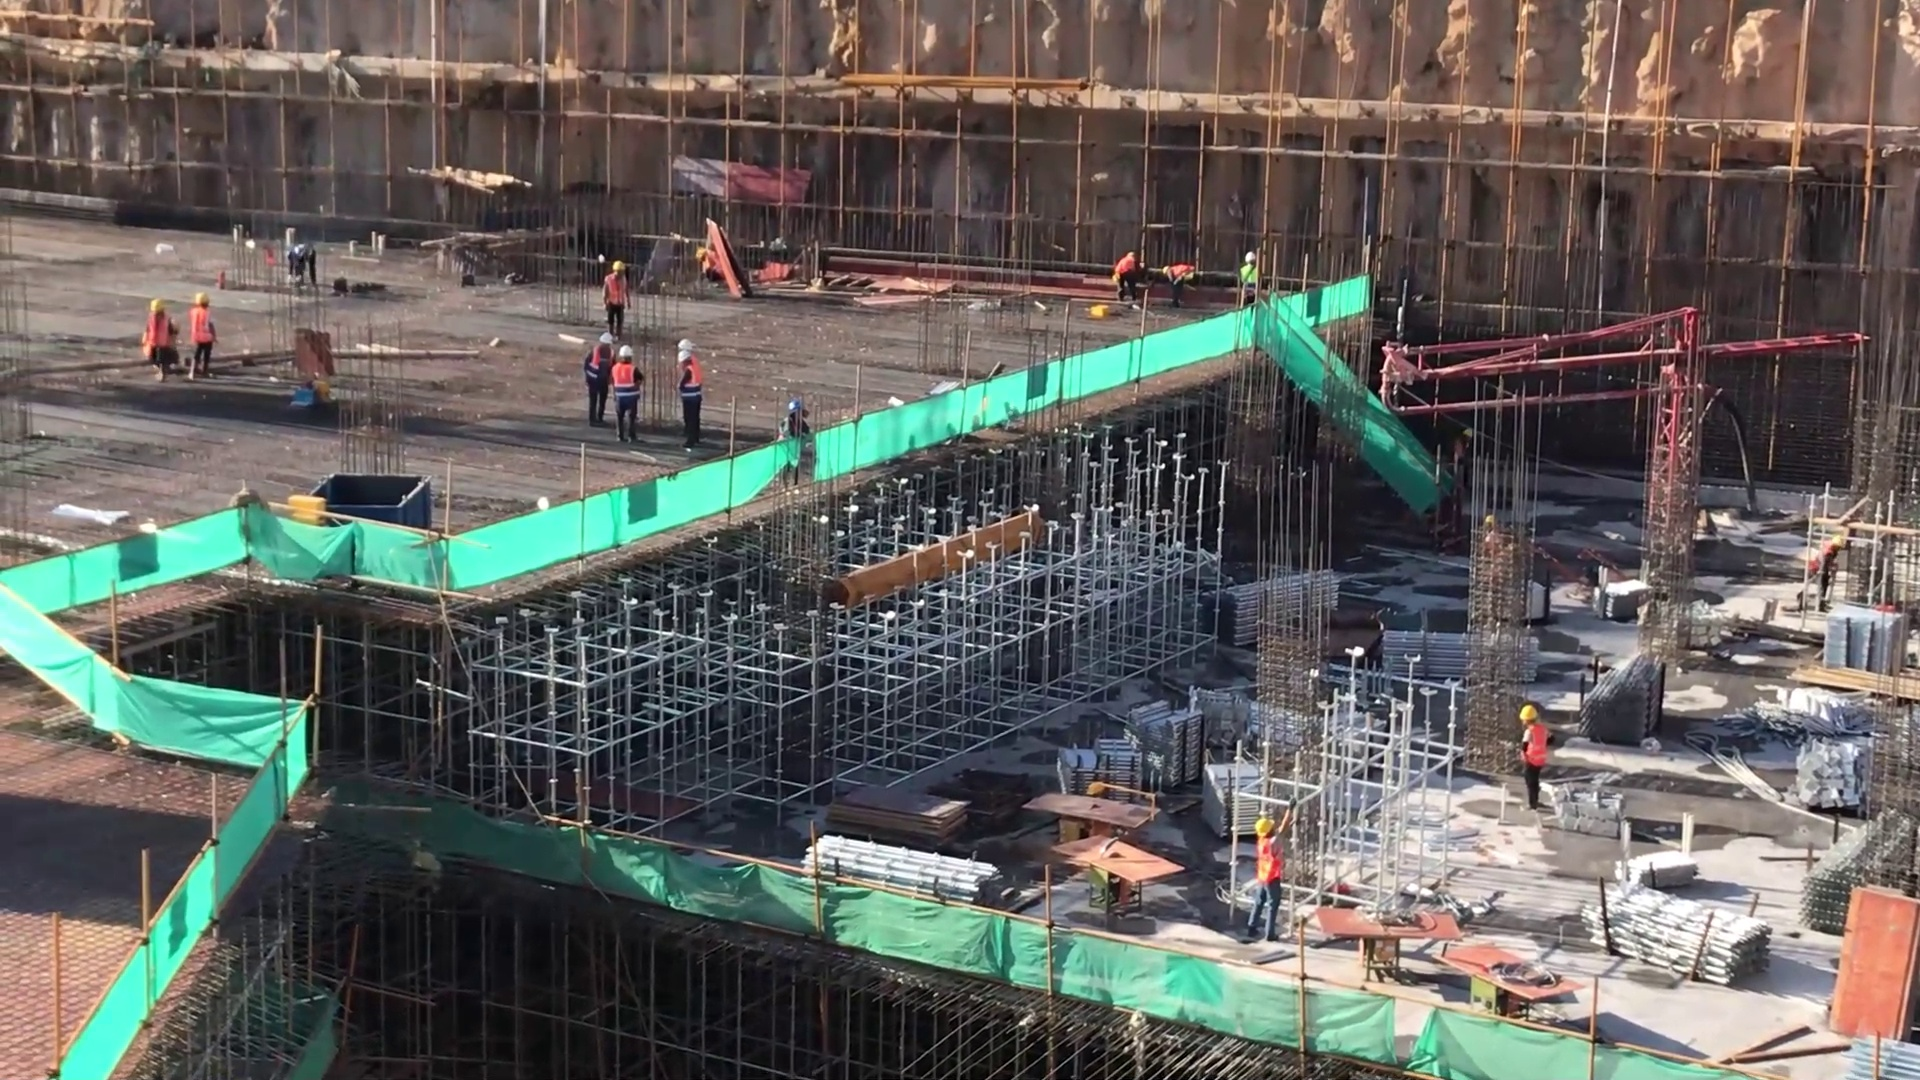board: (1315, 892, 1577, 1023), (1023, 787, 1167, 904), (1830, 885, 1920, 1060)
helmet: (1252, 813, 1281, 840), (187, 284, 208, 309), (597, 333, 618, 354), (1517, 702, 1537, 721), (146, 295, 167, 315), (617, 346, 635, 366), (1824, 532, 1844, 550), (784, 398, 803, 417), (610, 261, 629, 279), (673, 350, 691, 365), (676, 334, 691, 352), (1241, 250, 1258, 264)
hopper: (319, 454, 435, 524)
person: (1246, 806, 1292, 935), (1515, 707, 1552, 815), (139, 300, 186, 382), (1806, 529, 1854, 611), (184, 291, 225, 380), (585, 324, 618, 430), (615, 343, 648, 438), (676, 351, 707, 452), (602, 261, 634, 333), (1110, 248, 1146, 302), (283, 244, 321, 291), (777, 397, 814, 445), (1157, 263, 1194, 308), (1236, 249, 1264, 292)
scaffold: (1593, 846, 1767, 993), (788, 823, 980, 930), (1201, 560, 1346, 640), (1369, 619, 1482, 692), (1128, 702, 1206, 792), (1589, 649, 1667, 739), (1819, 597, 1900, 674), (1046, 736, 1136, 793), (1202, 759, 1263, 839), (1594, 568, 1653, 614)
vest: (1522, 725, 1545, 774), (613, 361, 639, 403), (1257, 839, 1280, 878), (679, 363, 703, 400), (589, 349, 608, 386), (605, 281, 627, 311), (1117, 260, 1139, 285), (1166, 264, 1192, 282), (1240, 263, 1259, 286)
